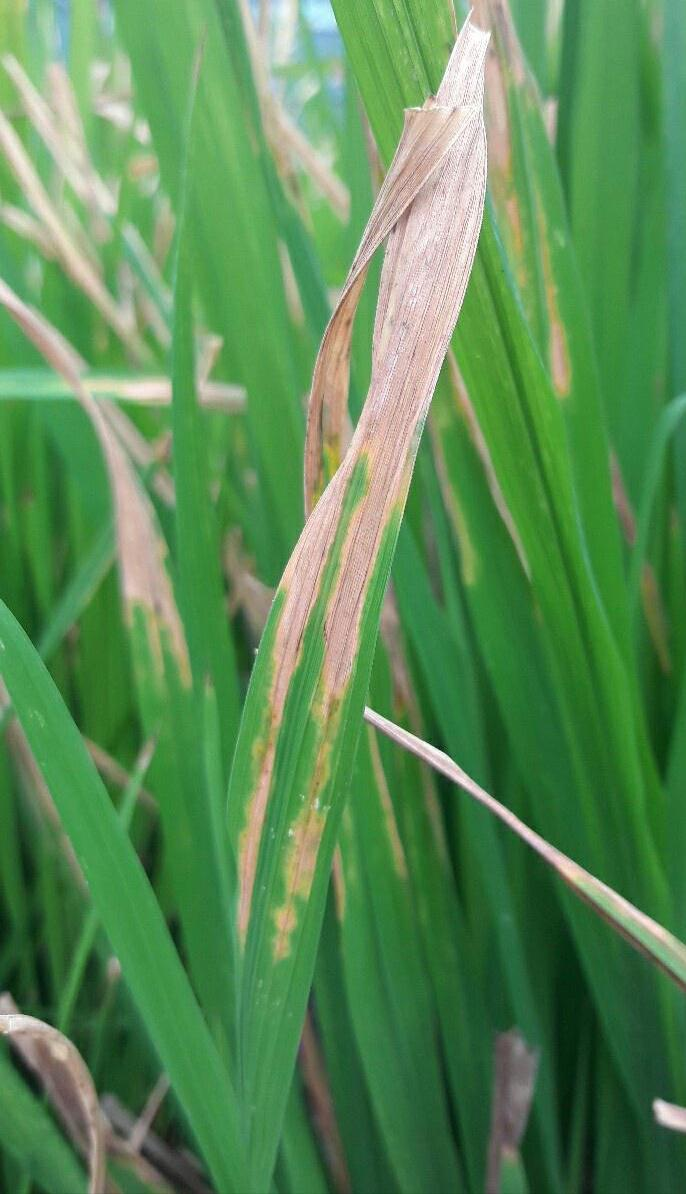2 BacterialBlight: (227, 23, 491, 985)
